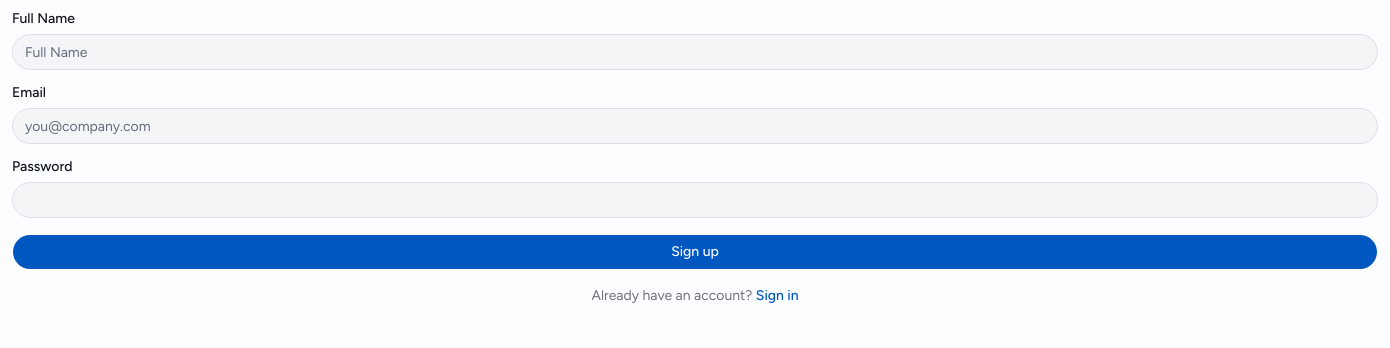
Scenario: SignUpForm › rejects a password shorter than 8 characters
Type "Ada" into the field with placeholder "Full Name" at [695, 52], box [12,34,1378,70]
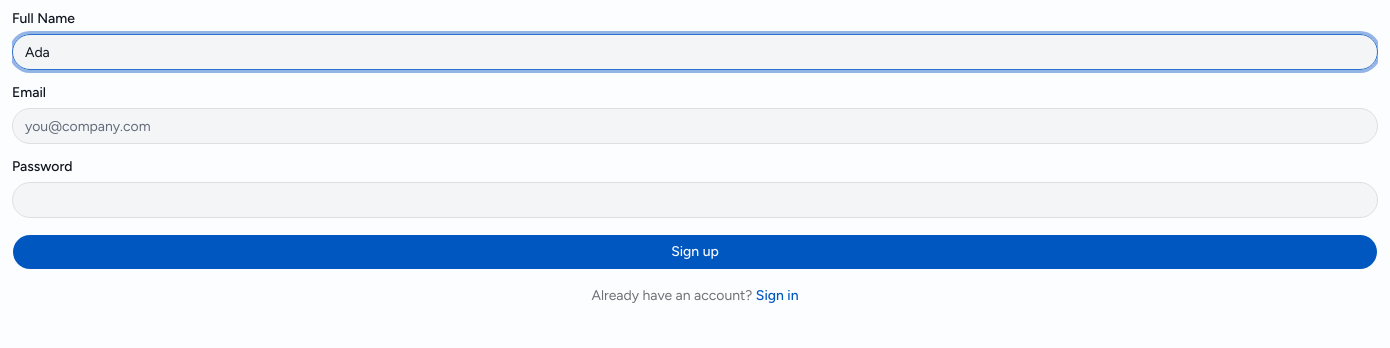
Type "ada@example.com" into the field labelled "Email" at [695, 126], box [12,108,1378,144]
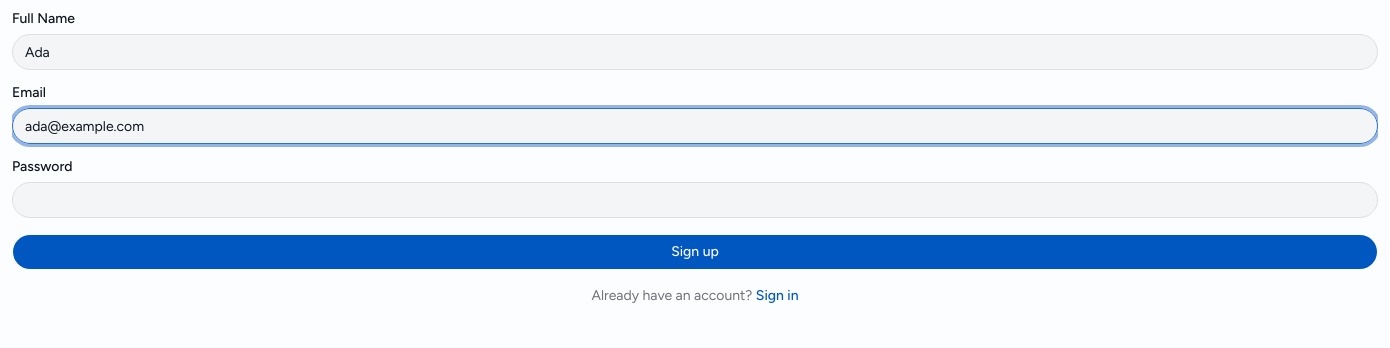
Type "short" into the password field labelled "Password" at [695, 200], box [12,182,1378,218]
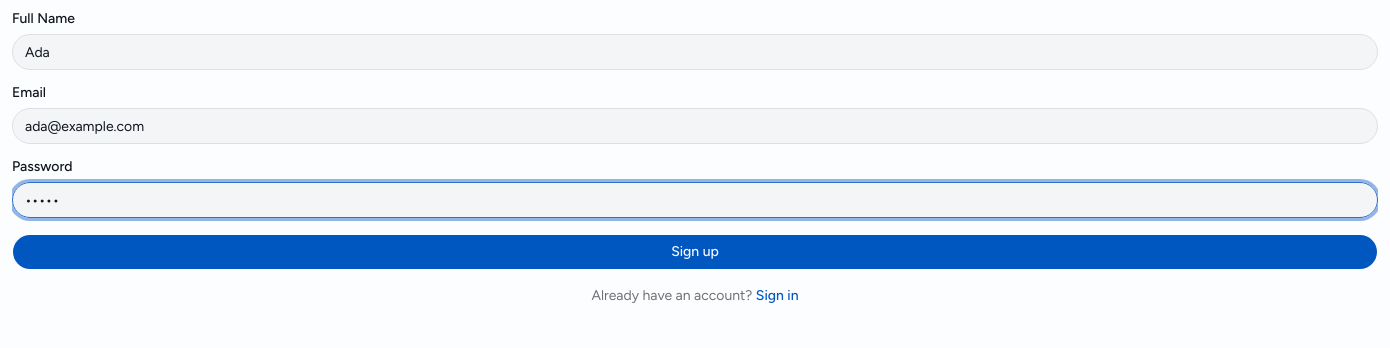
Click the submit button at [695, 252], box [12,234,1378,270]
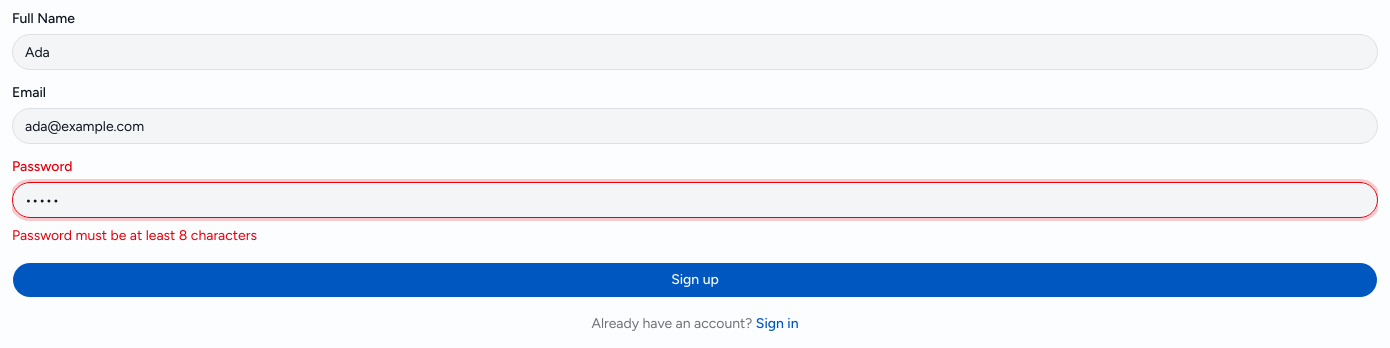
Now the text "Password must be at least 8 characters" is shown, box [12,227,257,244]
